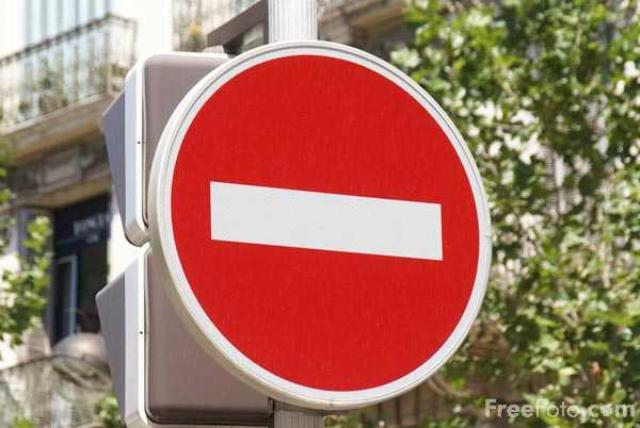B2: (145, 38, 493, 412)
